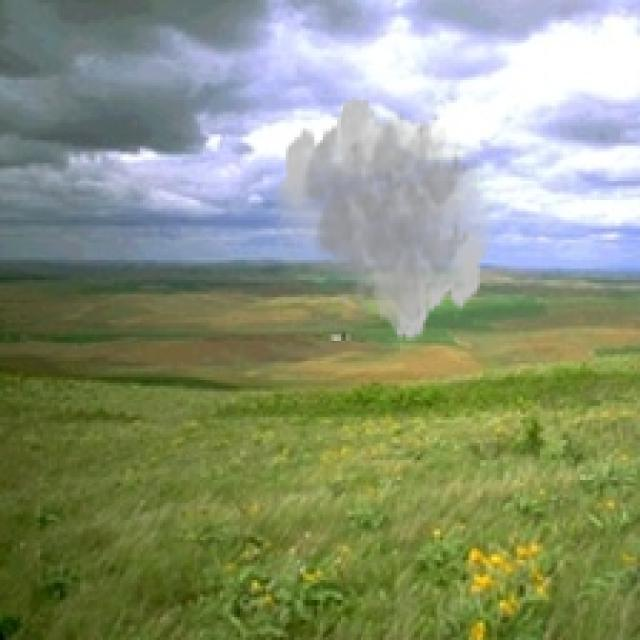smoke: (272, 94, 494, 343)
